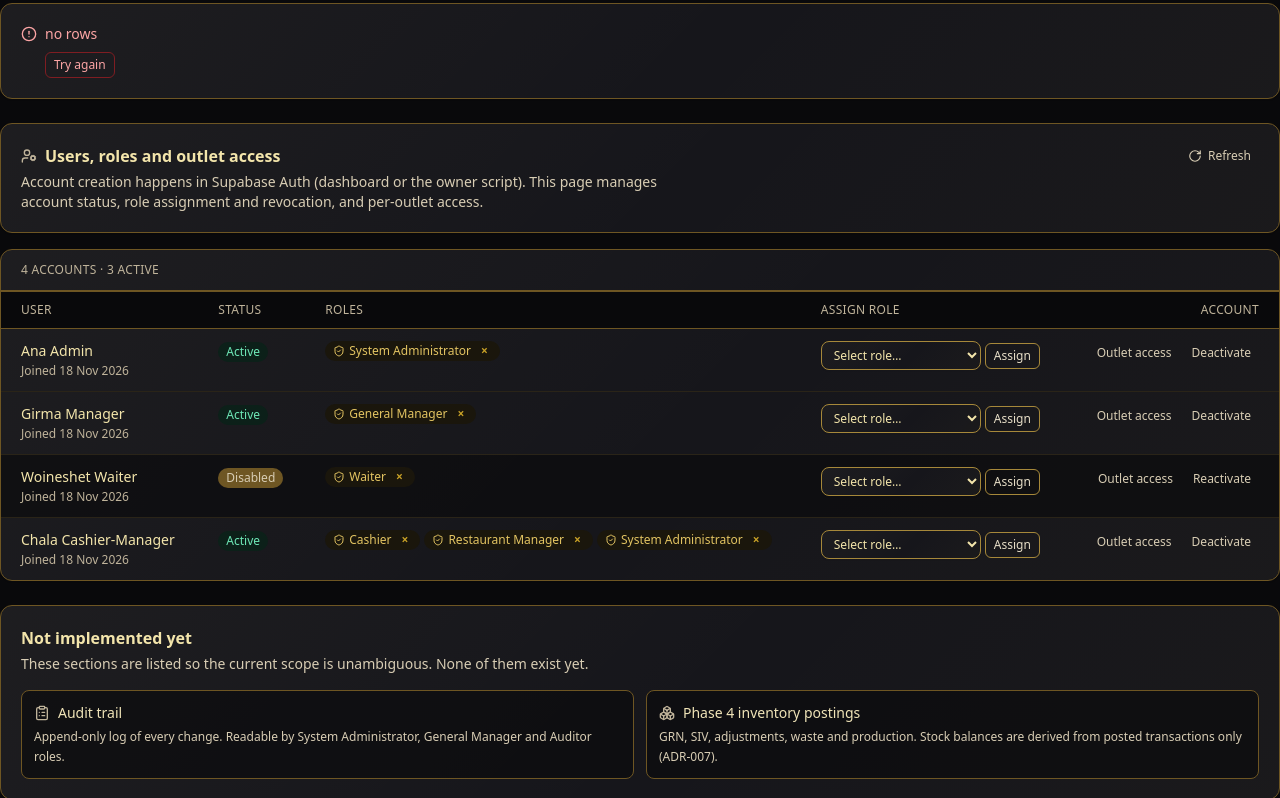
it: Settings — users › reactivates a disabled account
(page scrolled)
Expected: the text "Woineshet Waiter" is shown, [21,467,137,486]
Click the button with aria-label "Reactivate Woineshet Waiter": (1222, 479) [1185,467,1259,491]
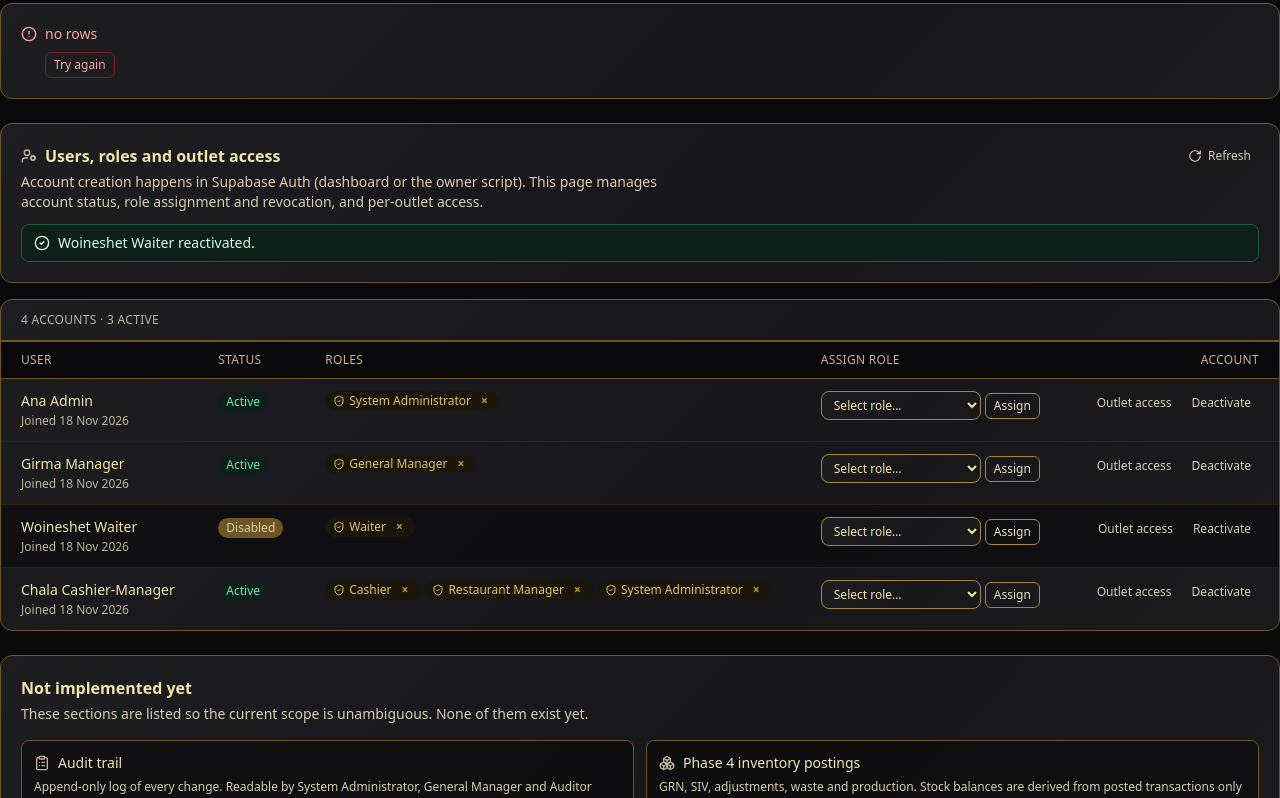
Now the message shows "Woineshet Waiter reactivated", box [58,233,255,252]
